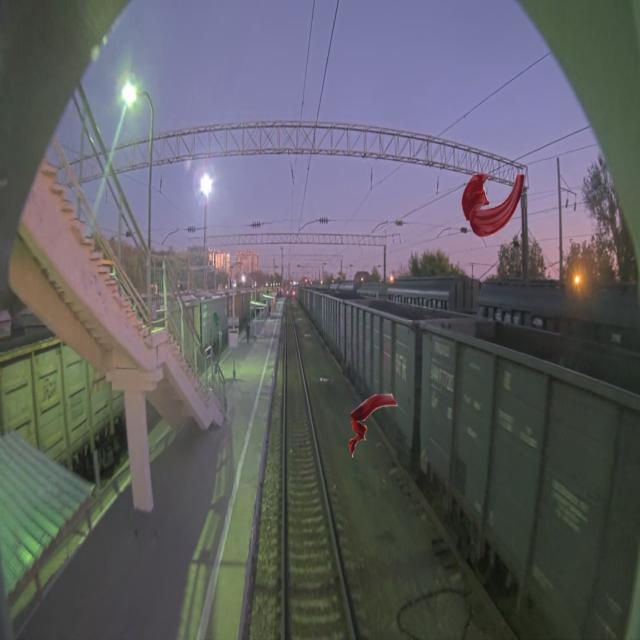floating object: (462, 173, 525, 237), (349, 393, 398, 458), (213, 310, 222, 374)
